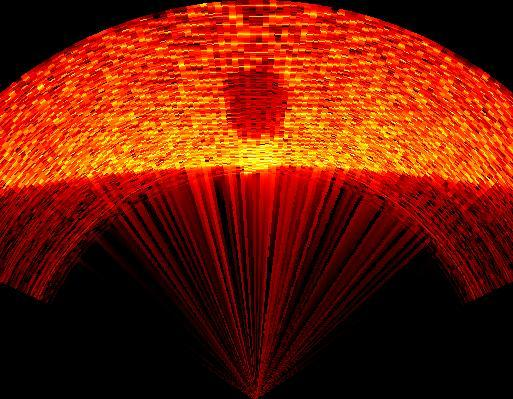box_crate: (224, 60, 293, 173)
